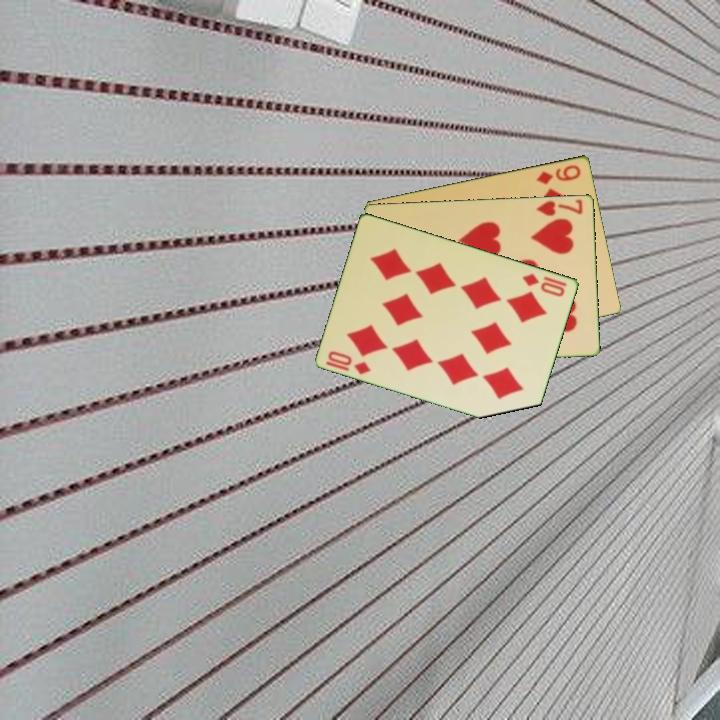10d: (325, 347, 374, 377), (519, 270, 568, 299)
7h: (533, 196, 586, 219)
9d: (533, 161, 584, 187)
